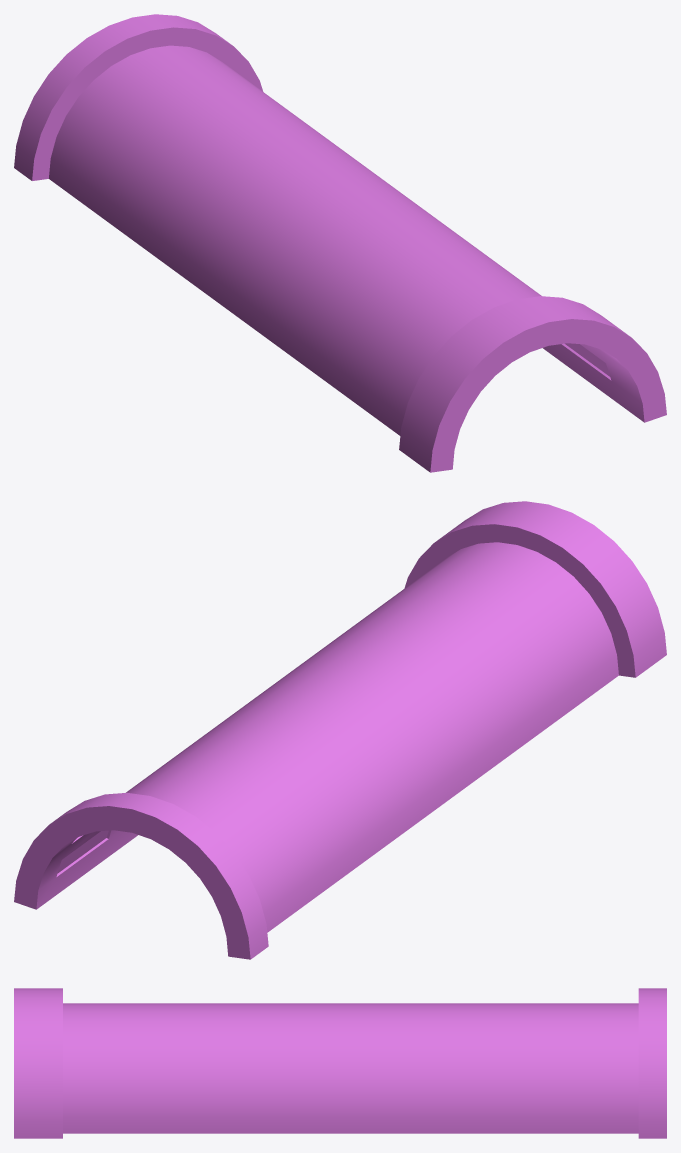
The model's file is tunnel 2.fbx.
3 views of the same model, one above another, from view 1: azimuth 30°, elevation 25°; view 2: azimuth 150°, elevation 25°; view 3: azimuth 270°, elevation 25° (orthographic). The views are drawn at different scales.
Parts seen in each view (by area): view 1: Circle.004; view 2: Circle.004; view 3: Circle.004.
Part boxes in pixels (x1=…): Circle.004: x1=14, y1=14, x2=666, y2=472; Circle.004: x1=14, y1=501, x2=666, y2=959; Circle.004: x1=14, y1=988, x2=666, y2=1138.
Size of the model in its own units: 802 by 402 by 2445.
